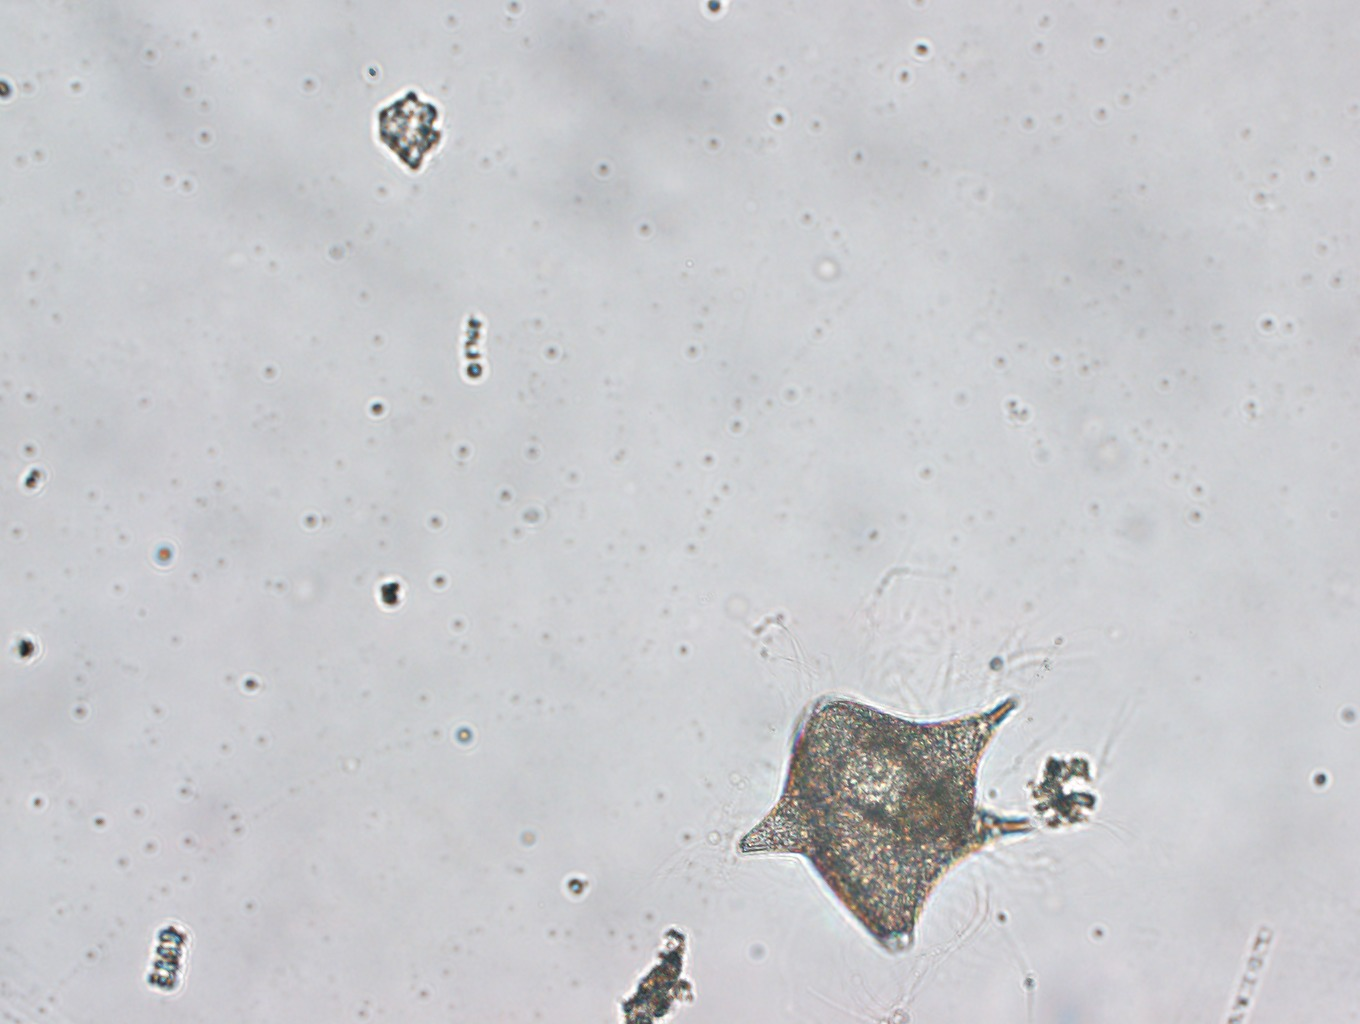protoperidinium: (743, 693, 1028, 949)
